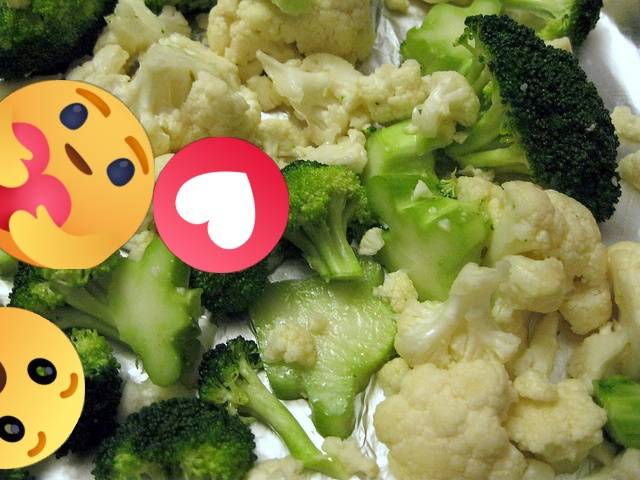care: (0, 80, 155, 269)
love: (153, 137, 289, 273)
wow: (0, 307, 85, 469)
